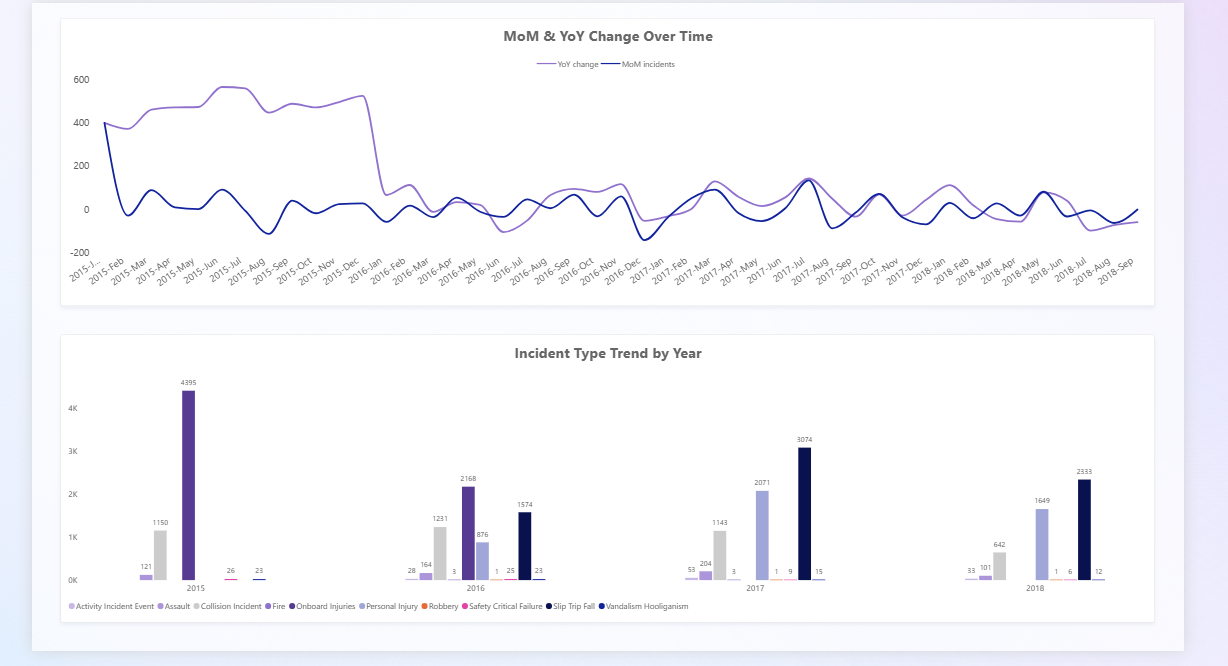

What the dashboard file says about the page in this screenshot:
{"tool":"powerbi","page":{"name":"Trends","canvas":[1920,1080],"ordinal":3},"visuals":[{"type":"lineChart","title":" MoM & YoY Change Over Time","fields":{"Category":["dim_date.Year Month"],"Y":["_measure.YoY change","_measure.MoM incidents"]},"box":[48,24,1824,480],"z":0},{"type":"clusteredColumnChart","title":"Incident Type Trend by Year","fields":{"Category":["dim_date.Year"],"Series":["fact_incidents.Incident Type"],"Y":["_measure.Total Incident"]},"box":[48,552,1824,480],"z":1000}]}

Visuals, with their boxes on the page's 1920x1080 design canvas (x1, y1, x2, y2). These are canvas units, not pixel positions in the 1228x666 screenshot, which may show the page scaled, cropped or inside an application window:
" MoM & YoY Change Over Time" lineChart: box(48, 24, 1872, 504)
"Incident Type Trend by Year" clusteredColumnChart: box(48, 552, 1872, 1032)
